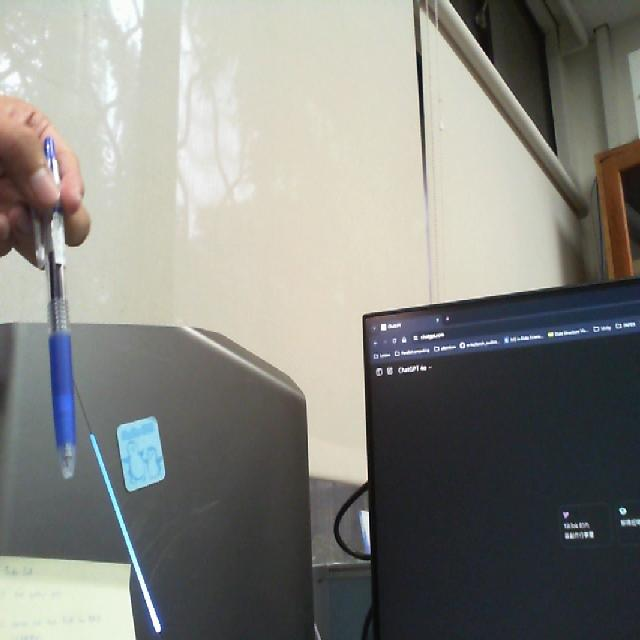Pen: (18, 117, 88, 488)
